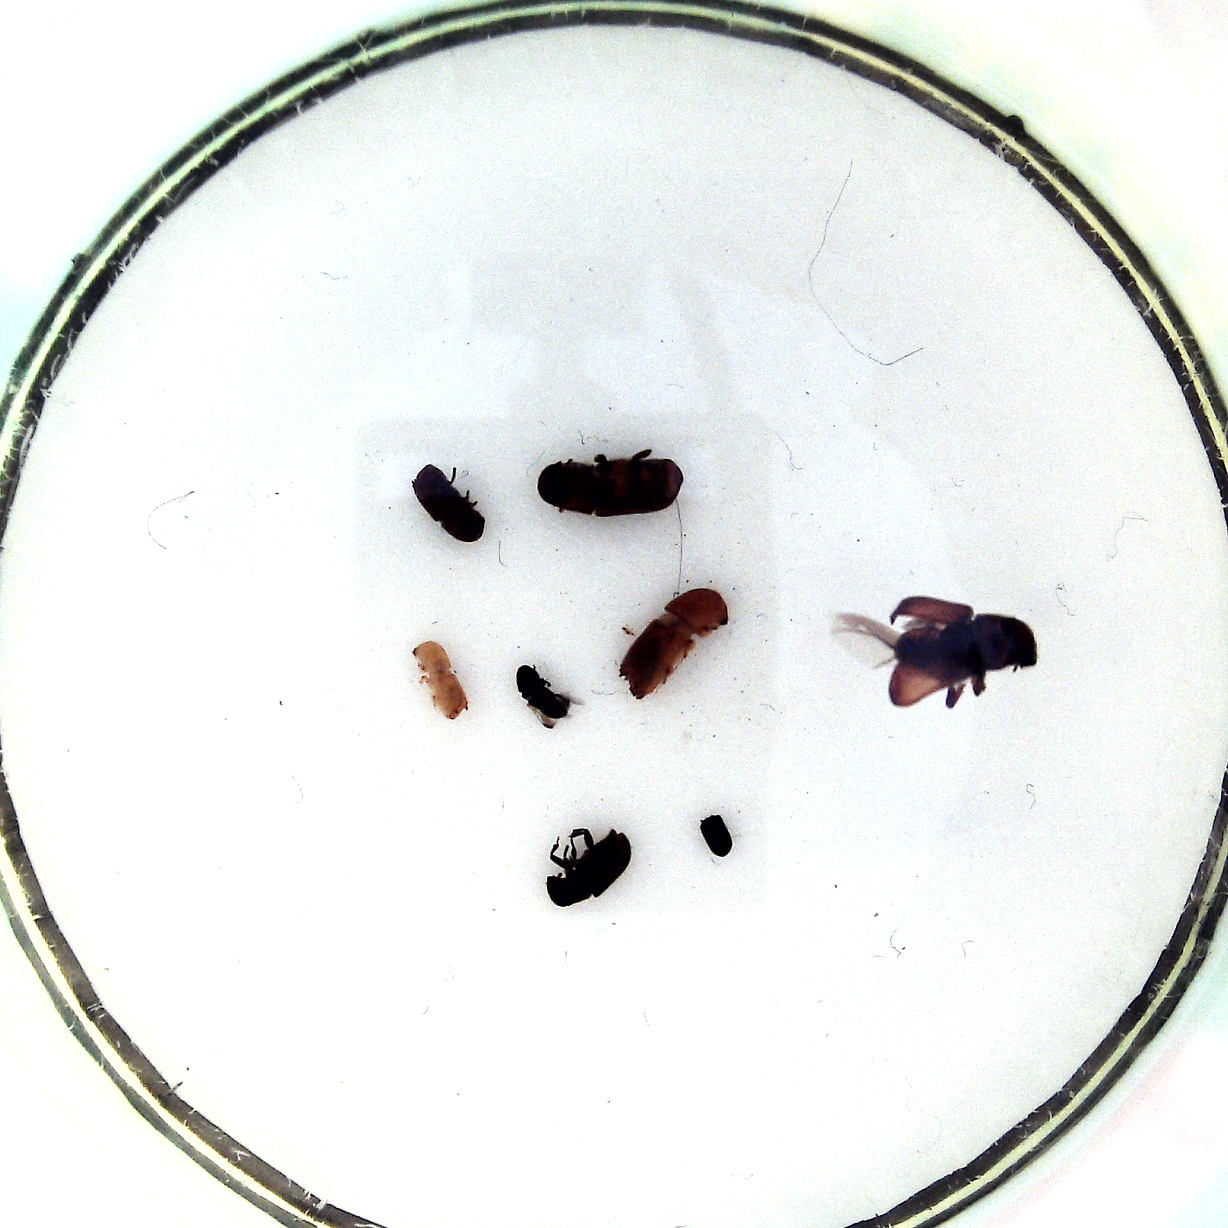Boerner: (614, 583, 740, 702)
Leconte: (827, 595, 1057, 713), (532, 439, 690, 520)
Linnaeus: (404, 458, 491, 548)
acuminatus: (407, 631, 476, 728)
armandi: (544, 818, 636, 908)
coleoptera: (507, 658, 584, 731), (698, 807, 742, 864)
